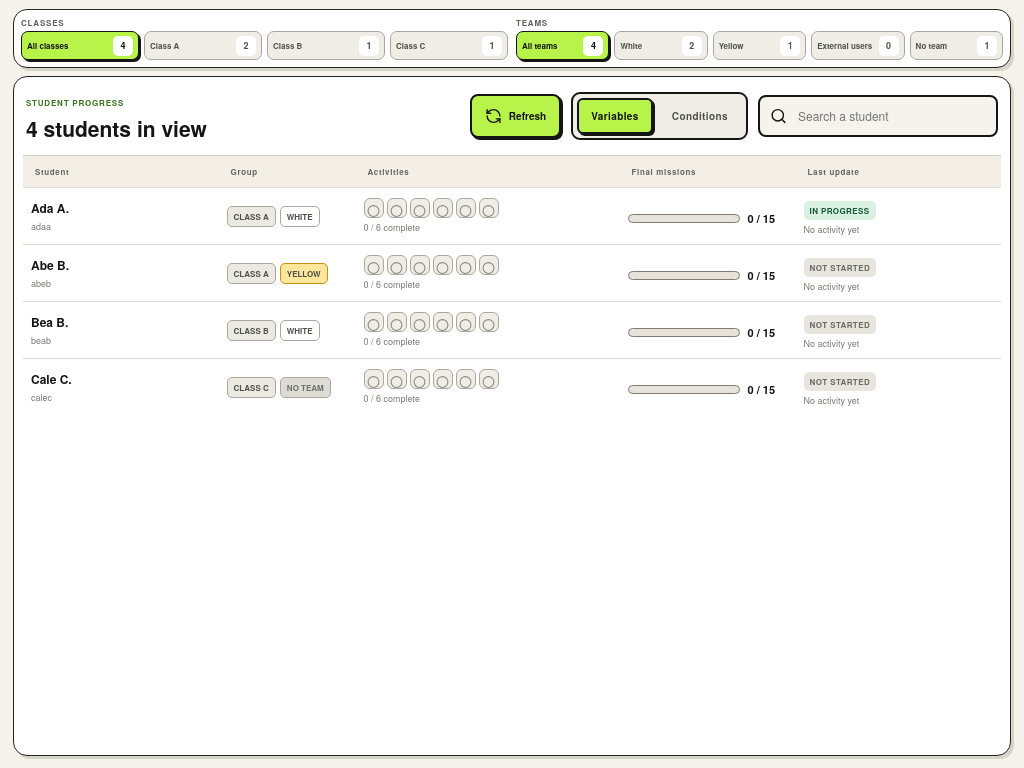
it: TeacherDashboard › filters the roster by class and team without hiding unassigned students
This screenshot has width=1024, height=768.
Expected: the heading "4 students in view" is shown, [26,113,207,143]
Expected: the button "White 2" is shown, [614,31,708,60]
Click the button "Class A 2": (203, 46) [144,31,262,60]
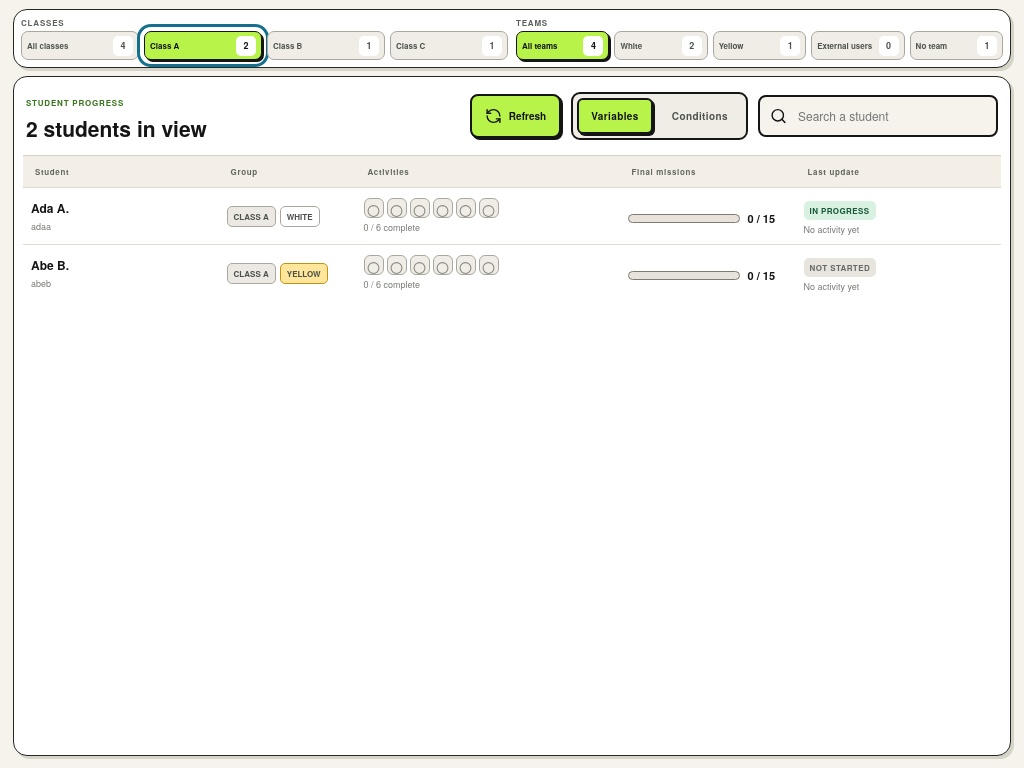
Expected: the text "Ada A." is shown, [31,199,69,217]
Now the heading "2 students in view" is shown, box [26,113,207,143]
Now the text "Bea B." is gone
Click the button "White 2": (661, 46) [614,31,708,60]
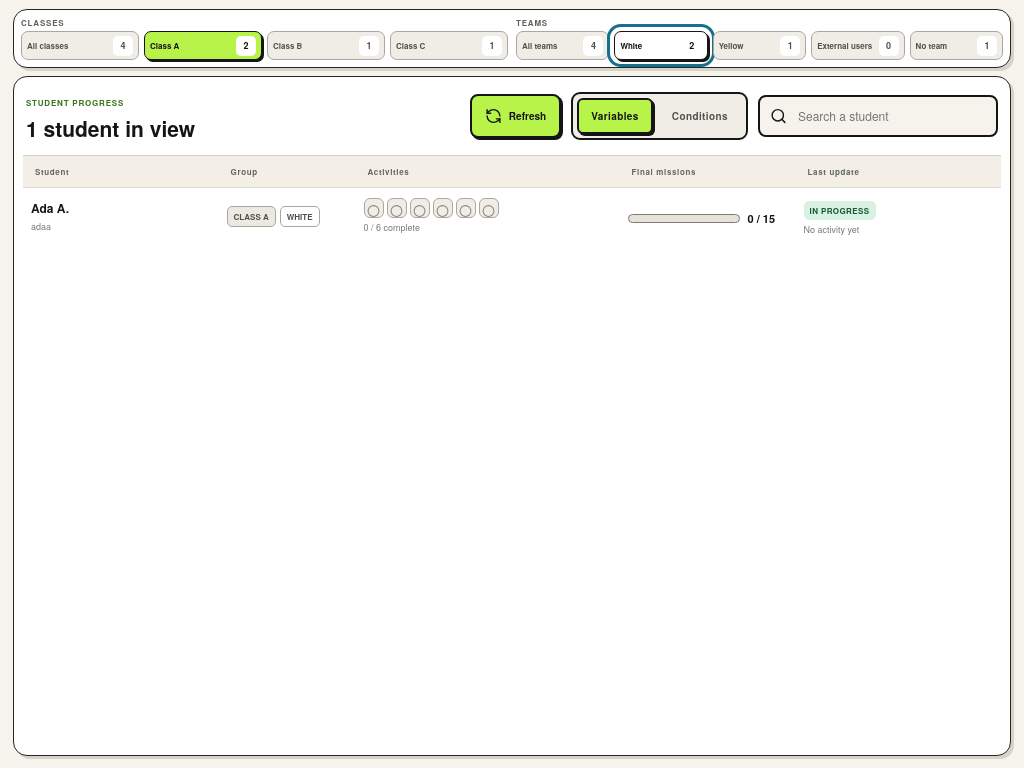
Expected: the text "Ada A." is shown, [31,199,69,217]
Now the heading "1 student in view" is shown, box [26,113,195,143]
Now the text "Abe B." is gone
Click the button "No team 1": (956, 46) [910,31,1003,60]
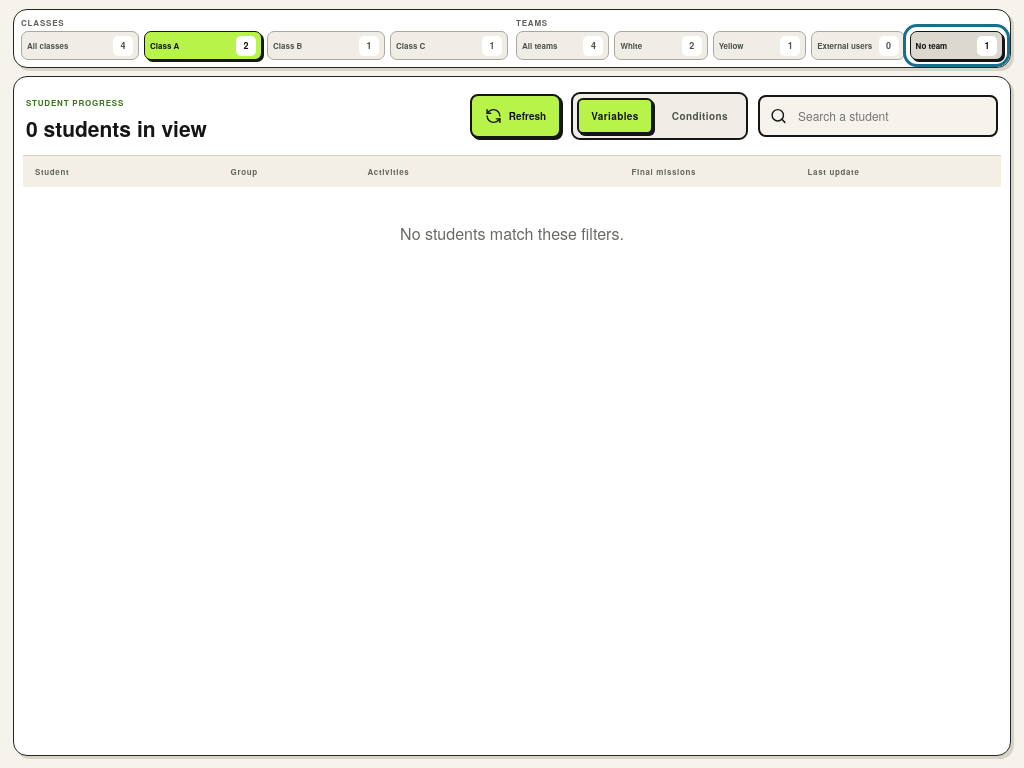
Now the heading "0 students in view" is shown, box [26,113,207,143]
Now the text "No students match these filters." is shown, box [400,222,624,245]
